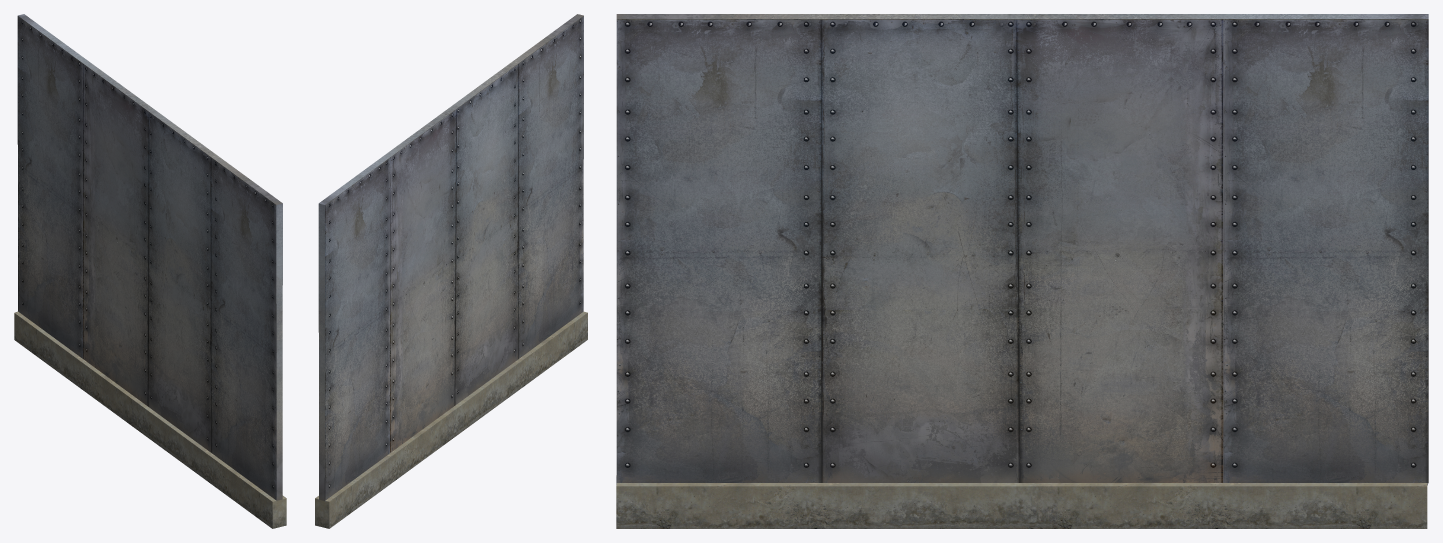
The model's file is barrier_high.fbx.
3 renders of one model, left to right at view 1: azimuth 30°, elevation 25°; view 2: azimuth 150°, elevation 25°; view 3: azimuth 270°, elevation 25°, orthographic. The views are drawn at different scales.
Parts seen in each view (by area): view 1: barrier_high; view 2: barrier_high; view 3: barrier_high.
Boxes of the visible parts, x1,y1,x2,y2 form: barrier_high: (14,14,286,528); barrier_high: (315,14,587,528); barrier_high: (616,14,1428,528).
Size of the model in its own units: 6.39 by 138 by 200.
